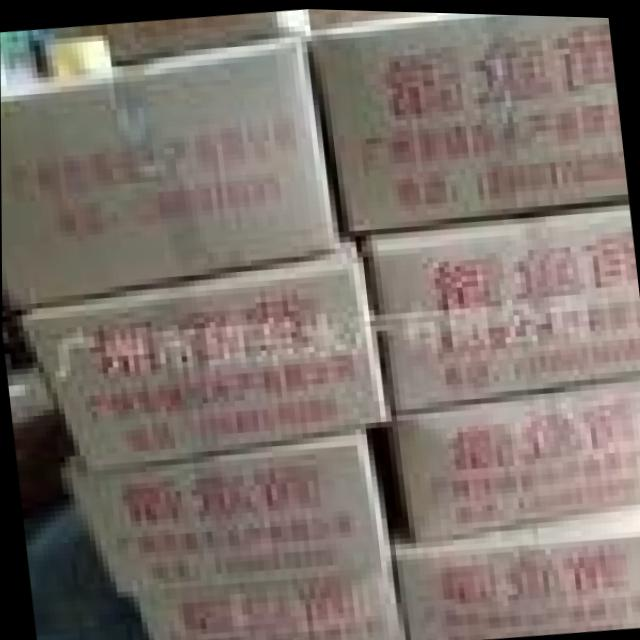box: (1, 31, 345, 315), (21, 239, 391, 475), (311, 10, 628, 229), (359, 195, 640, 413), (60, 426, 396, 602), (390, 372, 640, 535), (393, 497, 640, 637), (138, 563, 410, 640), (106, 12, 308, 66), (308, 8, 434, 33)
